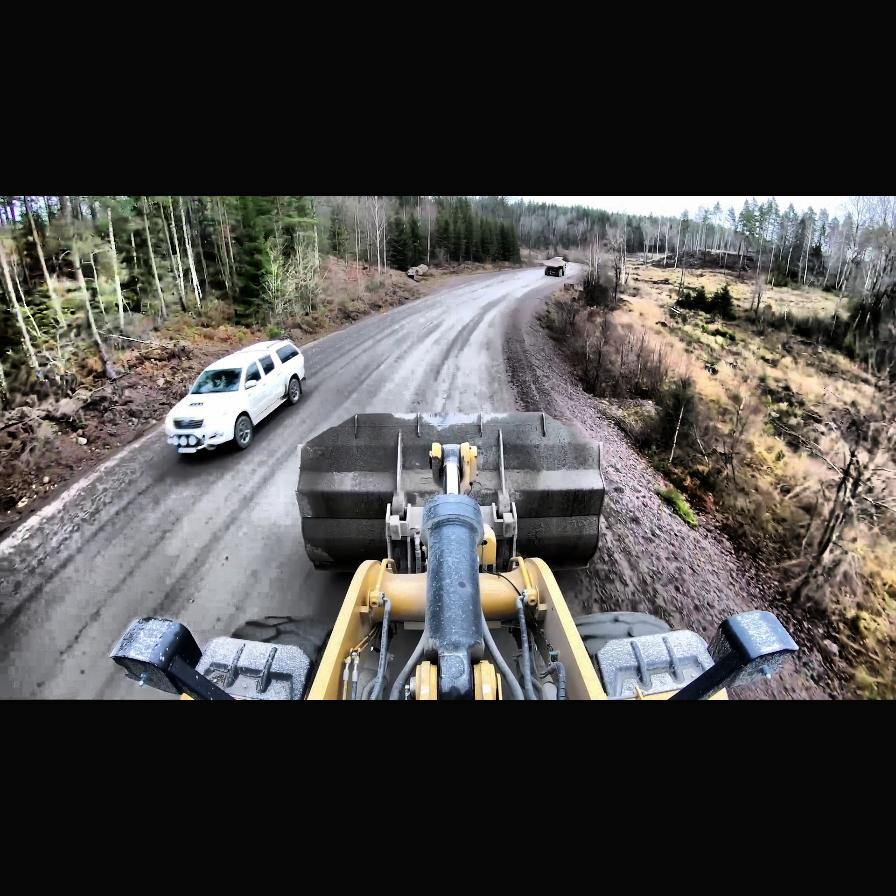anchor: (430, 442, 476, 495)
